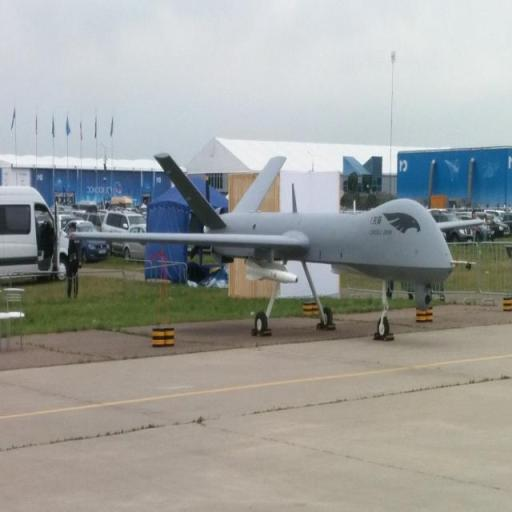uav: (76, 152, 454, 339)
